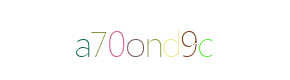0: (91, 0, 171, 80)
7: (90, 0, 170, 80)
9: (138, 0, 218, 80)
A: (43, 0, 123, 80)
C: (164, 0, 244, 80)
D: (118, 0, 198, 80)
N: (105, 0, 185, 80)
O: (103, 0, 183, 80)
